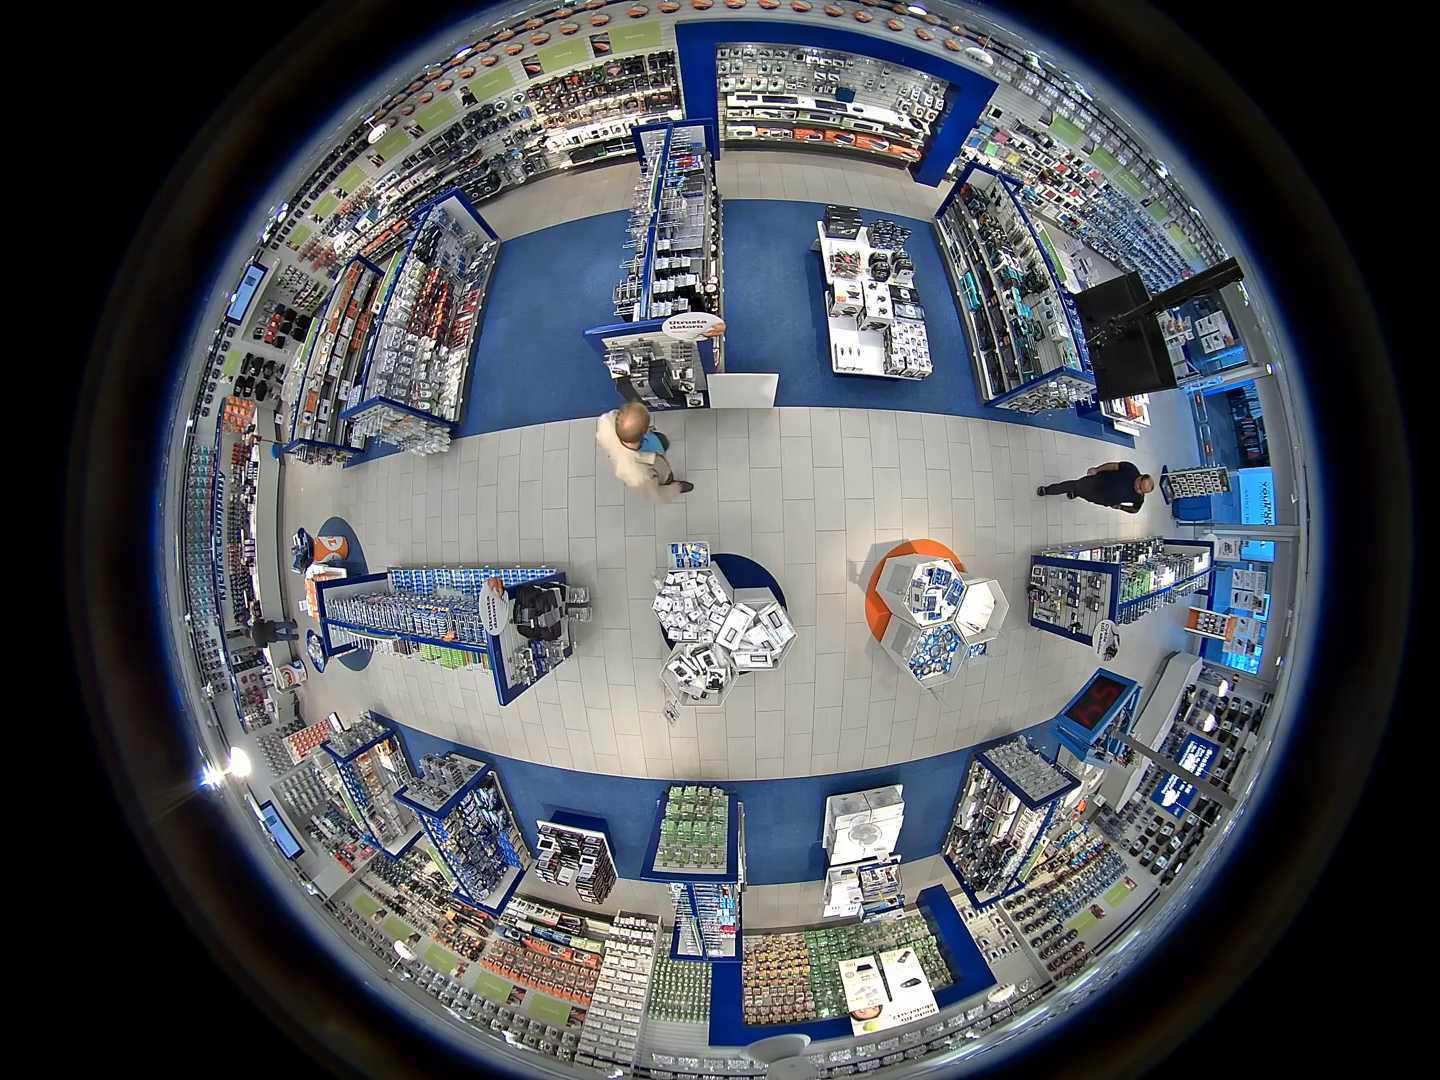person: (595, 402, 695, 504), (1037, 461, 1154, 514), (245, 618, 300, 648), (234, 607, 252, 627)
